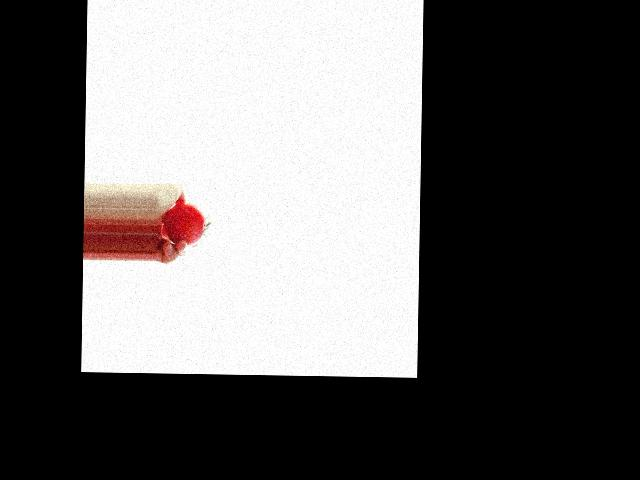tomato: (163, 202, 206, 247)
